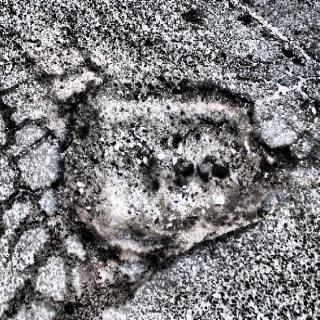crack: (13, 248, 49, 315), (10, 174, 50, 230), (0, 93, 21, 170)
pothole: (51, 82, 266, 258)
